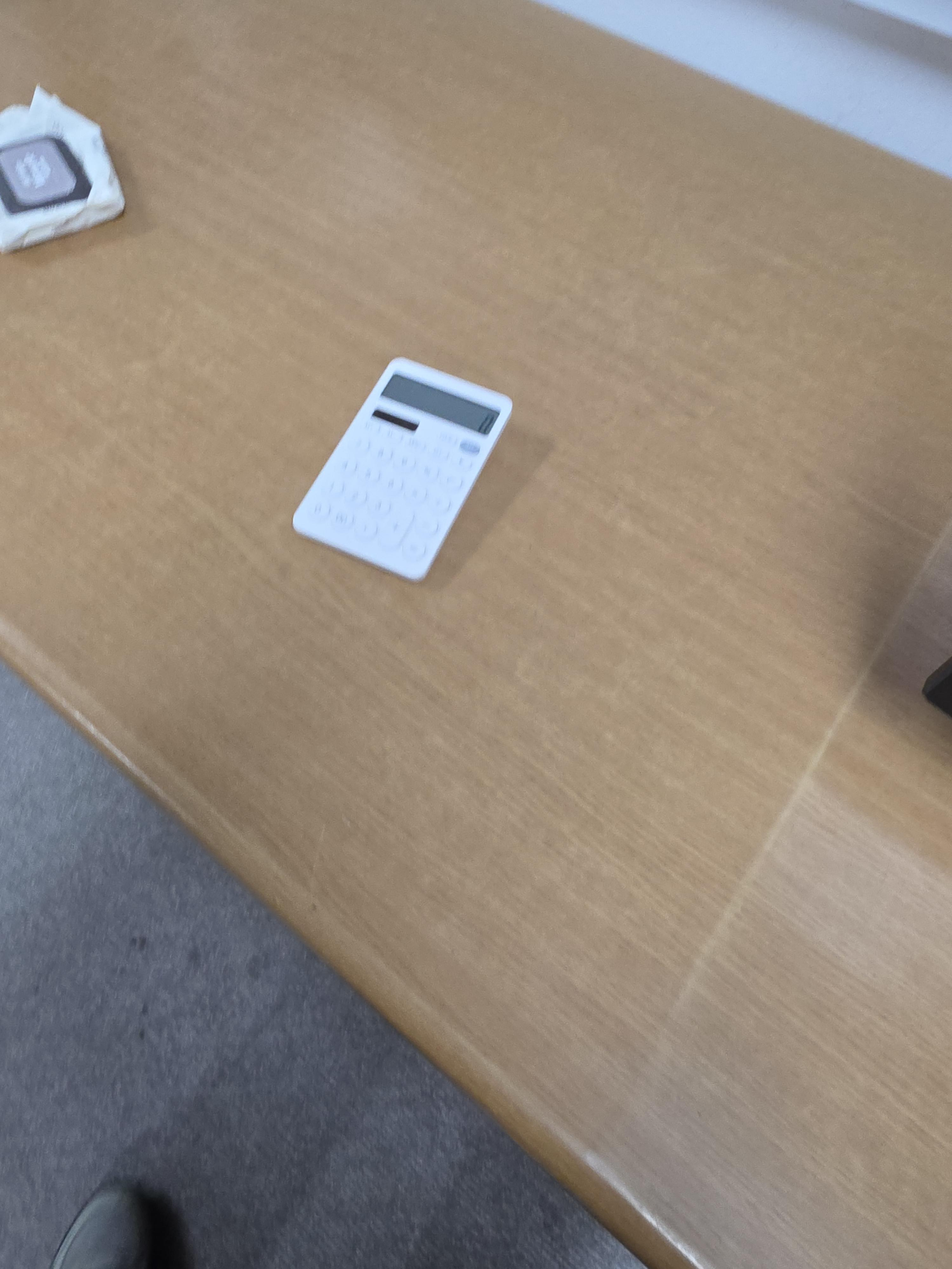calculator: (292, 356, 514, 582)
tissue: (0, 84, 125, 254)
